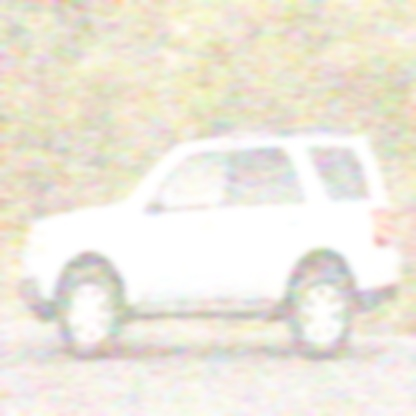Vehicle: (21, 124, 400, 363)
